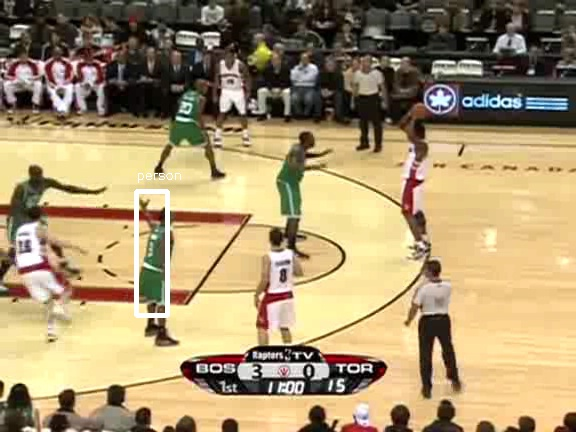person: (142, 226, 176, 307), (141, 226, 175, 307), (143, 226, 177, 307), (142, 225, 176, 306), (142, 227, 176, 308)
target_negative: (513, 24, 563, 408), (274, 124, 438, 218), (384, 57, 456, 251), (204, 385, 531, 425), (298, 200, 417, 236), (363, 365, 486, 398)
